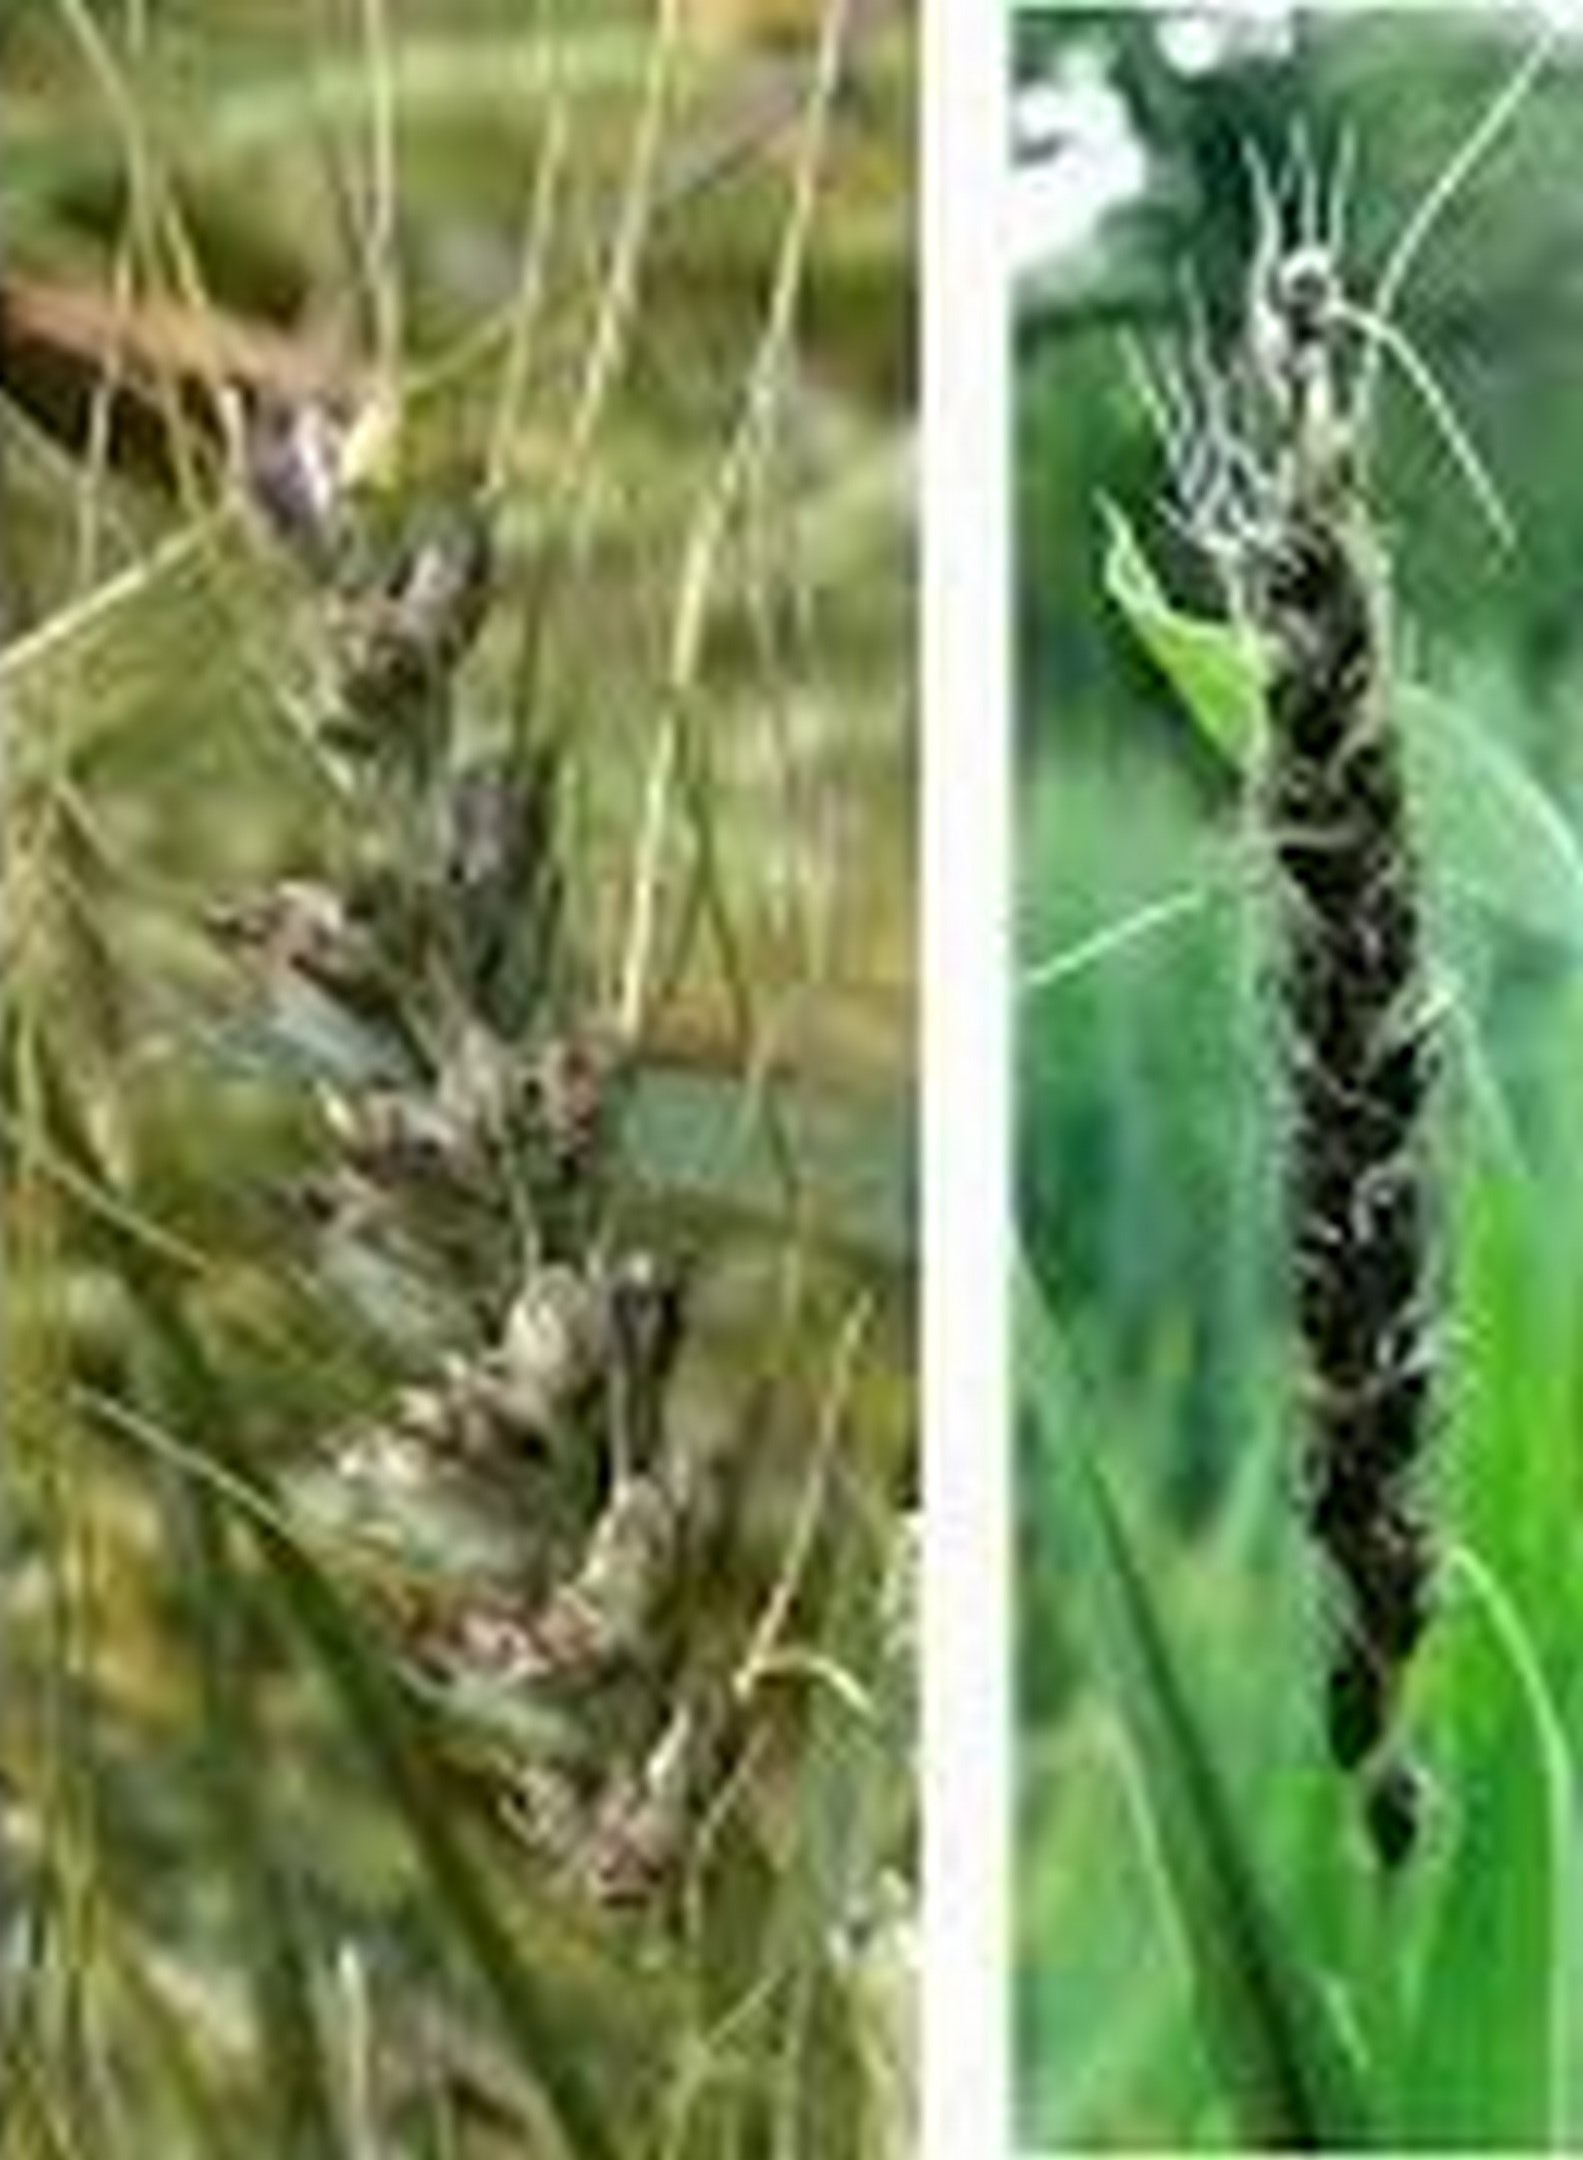Wheat Loose Smut: (1197, 426, 1519, 1820)
